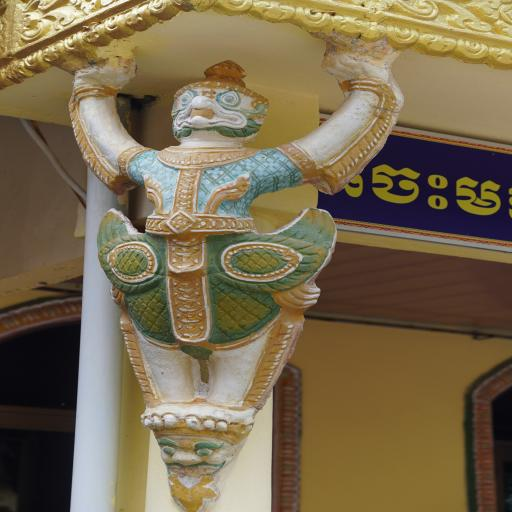than: (36, 27, 401, 512)
